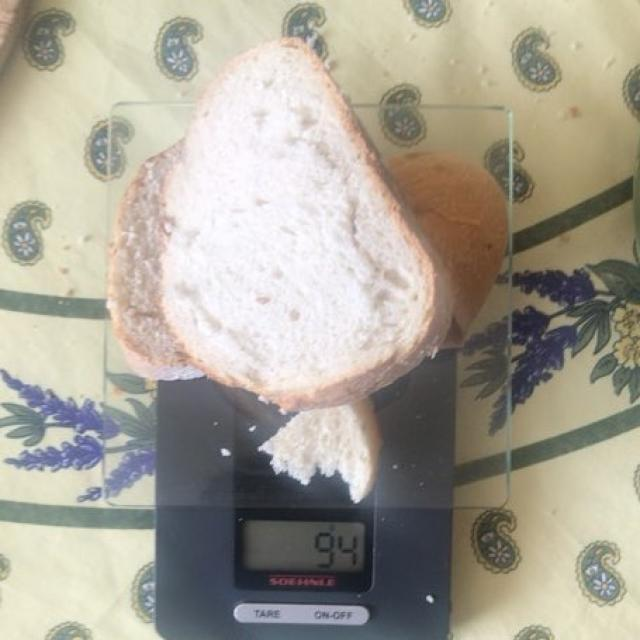bread: (116, 38, 546, 501)
